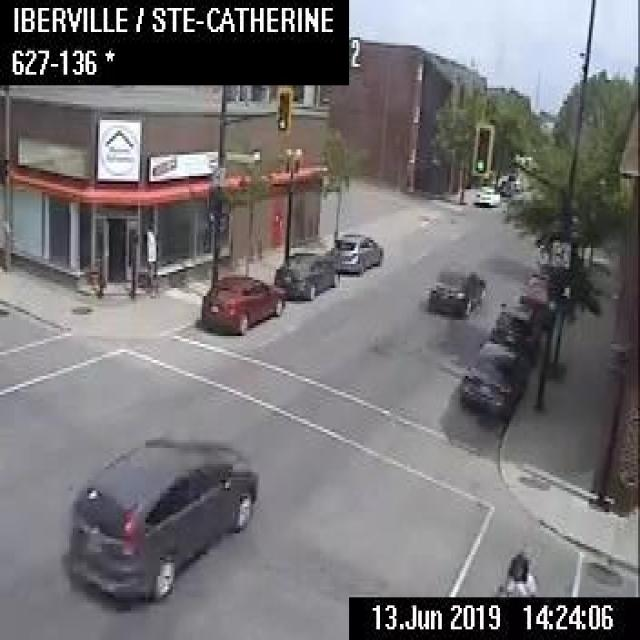pedestrian: (496, 550, 544, 598)
vehicle: (62, 434, 257, 602), (460, 338, 528, 419), (198, 270, 284, 333), (484, 297, 540, 363), (273, 248, 339, 302), (429, 262, 480, 318), (327, 230, 382, 274), (517, 269, 553, 325), (471, 179, 499, 204), (494, 176, 521, 194)
